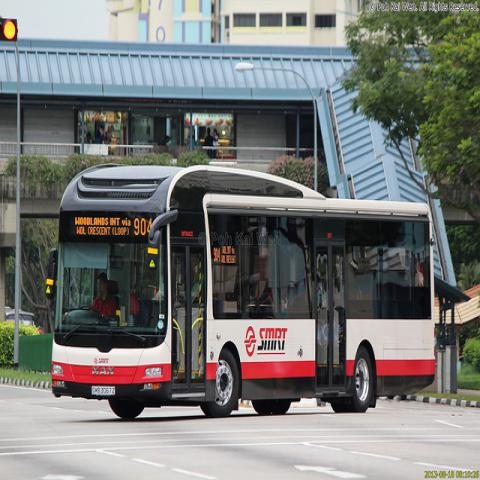bus: (43, 160, 436, 420)
